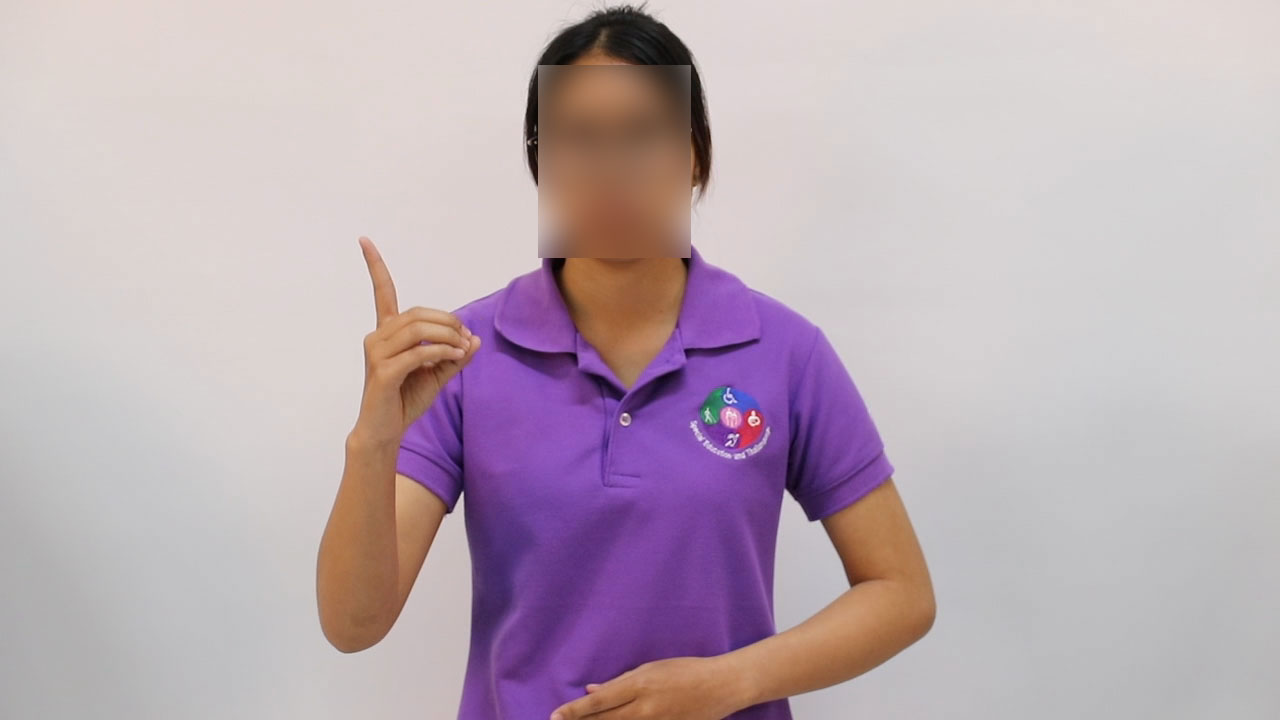dor: (338, 229, 491, 442)
